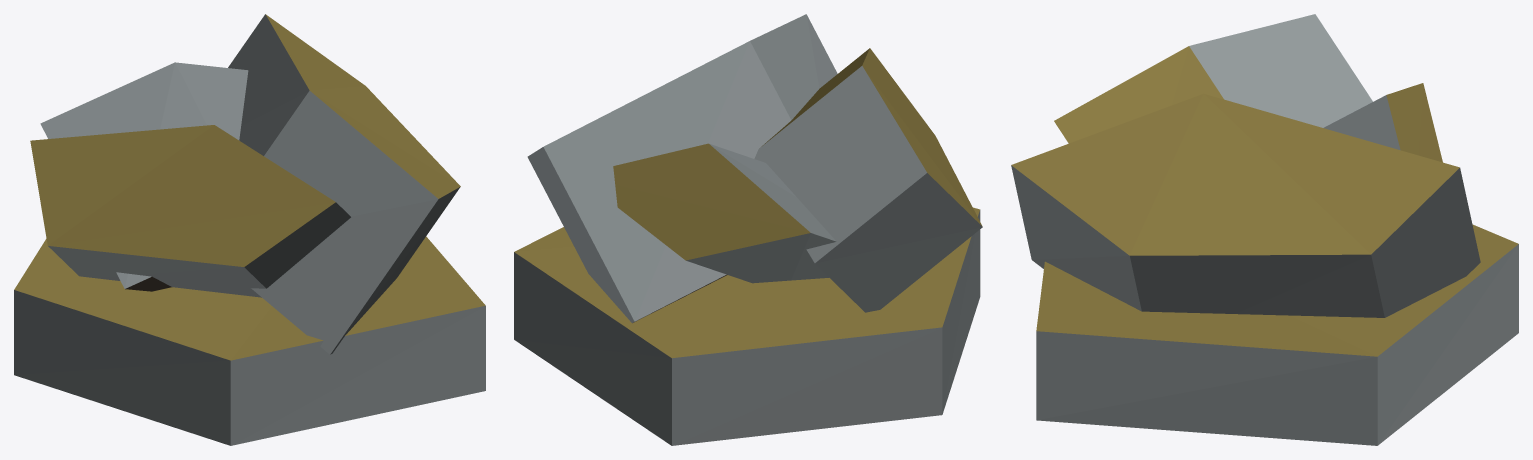
Rendered from rock.shard__outcrop__autumn.glb.
3 renders of one model, left to right at view 1: azimuth 30°, elevation 25°; view 2: azimuth 150°, elevation 25°; view 3: azimuth 270°, elevation 25°, orthographic. The views are drawn at different scales.
Visible parts, largest first — view 1: rock.shard; view 2: rock.shard; view 3: rock.shard.
Boxes of the visible parts, x1=… form: rock.shard: x1=14, y1=14, x2=485, y2=445; rock.shard: x1=514, y1=14, x2=982, y2=445; rock.shard: x1=1011, y1=14, x2=1518, y2=445.
Bounding box in the file's own units: 1.64 × 1.06 × 1.76.
